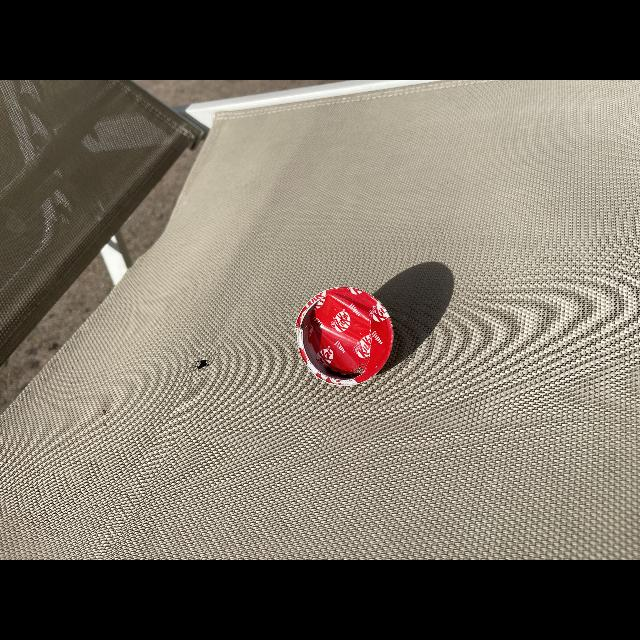damaged_capsule: (291, 282, 401, 391)
